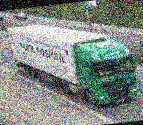truck: (3, 11, 141, 121)
